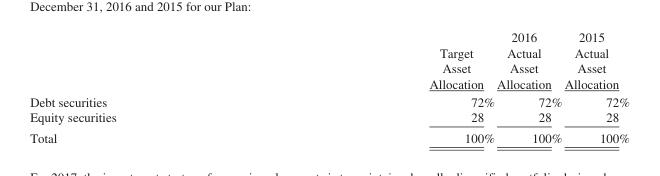table: (29, 29, 629, 144)
table column: (29, 29, 272, 144), (272, 29, 494, 144), (494, 29, 562, 144), (562, 29, 629, 144)
table column header: (29, 29, 629, 92)
table row: (29, 29, 629, 92), (29, 108, 629, 127), (29, 127, 629, 144), (29, 92, 629, 108)
